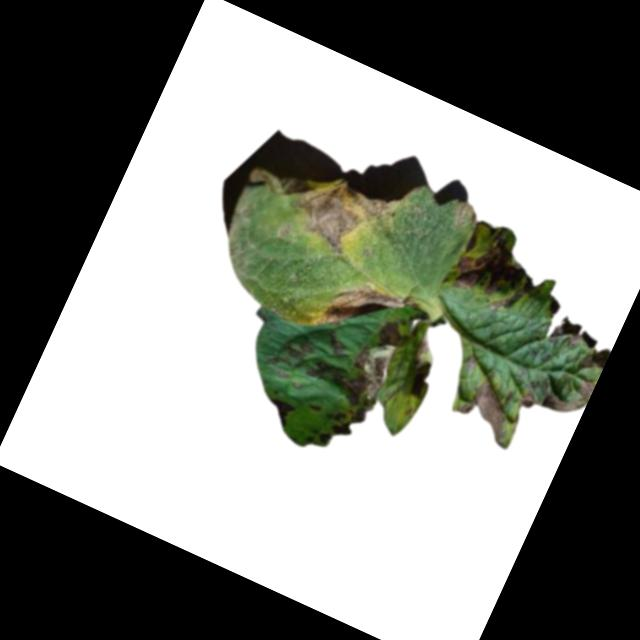Early_blight: (297, 300, 410, 428), (283, 164, 395, 268), (445, 226, 545, 323), (320, 266, 418, 354), (450, 367, 525, 446), (519, 358, 595, 428), (258, 394, 297, 432), (406, 361, 436, 403), (328, 413, 356, 440), (565, 331, 586, 354)
